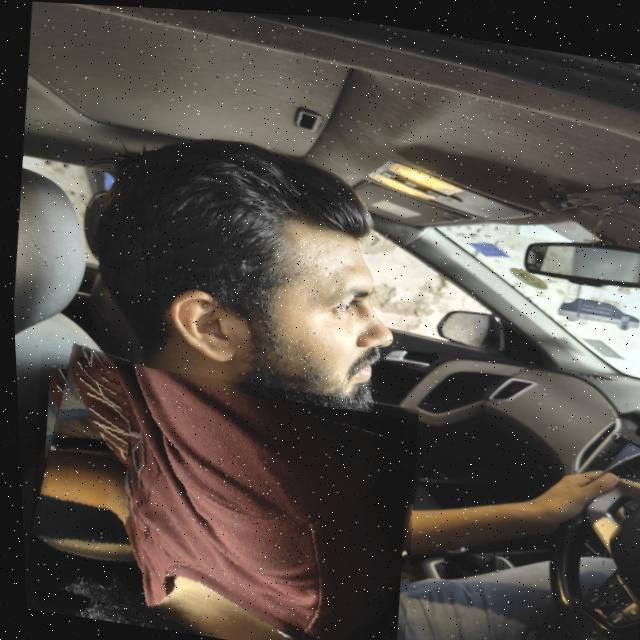no-seatbelt: (12, 349, 423, 640)
